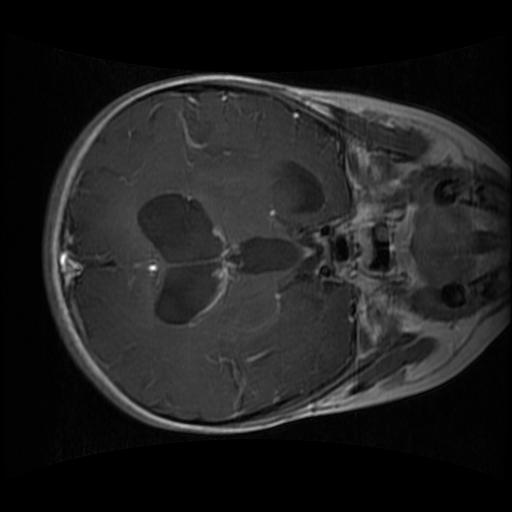glioma: (268, 154, 328, 230)
